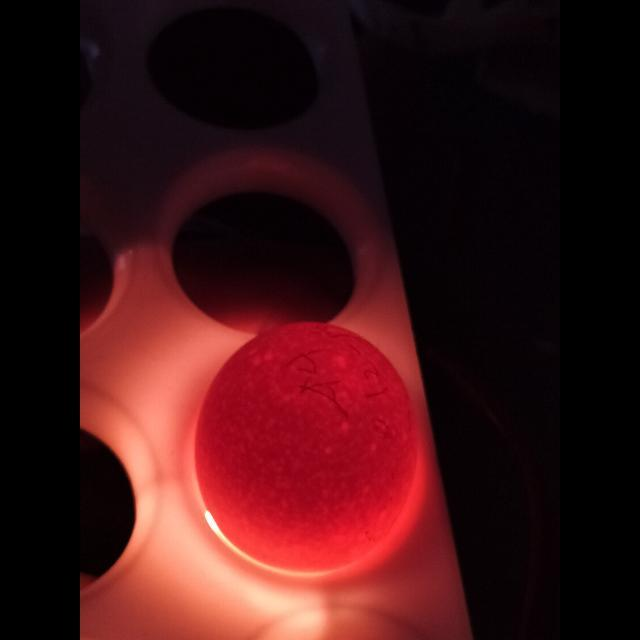Infertile: (192, 319, 434, 575)
